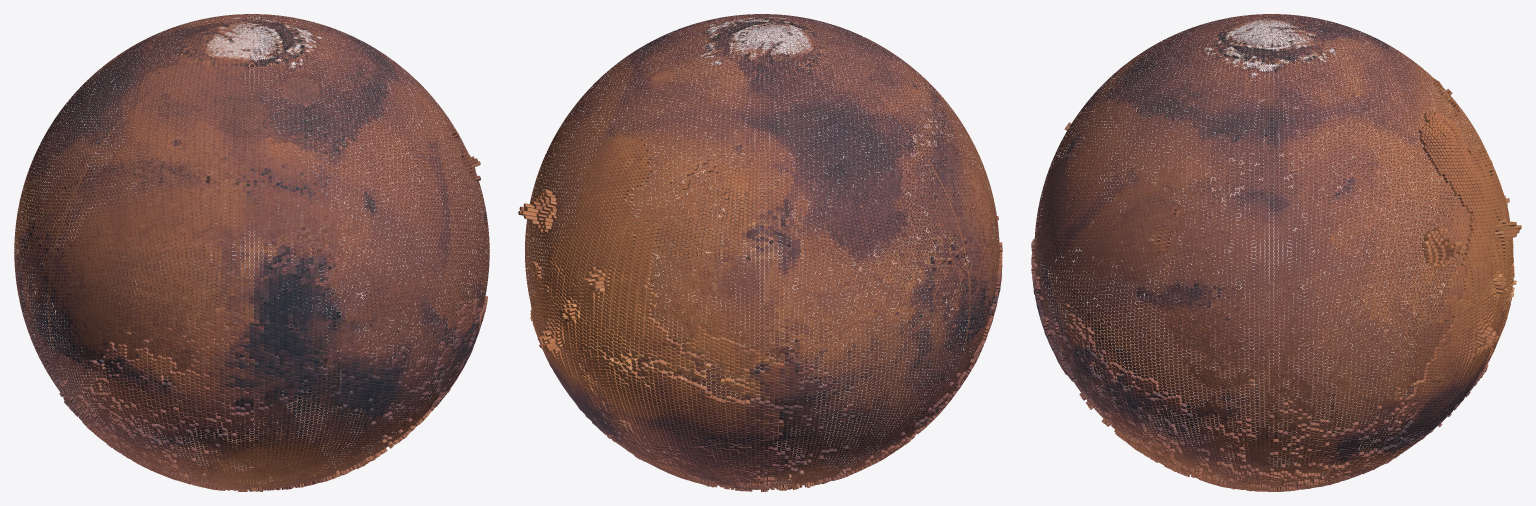
File: mars.glb
3 renders of one model, left to right at view 1: azimuth 30°, elevation 25°; view 2: azimuth 150°, elevation 25°; view 3: azimuth 270°, elevation 25°, orthographic.
Visible parts, largest first — view 1: Sphere; view 2: Sphere; view 3: Sphere.
Boxes of the visible parts, x1=… form: Sphere: x1=14, y1=14, x2=489, y2=491; Sphere: x1=518, y1=14, x2=1002, y2=491; Sphere: x1=1031, y1=14, x2=1521, y2=491.
Size of the model in its own units: 2 by 2.02 by 2.07.
1 material, 1 textured.
